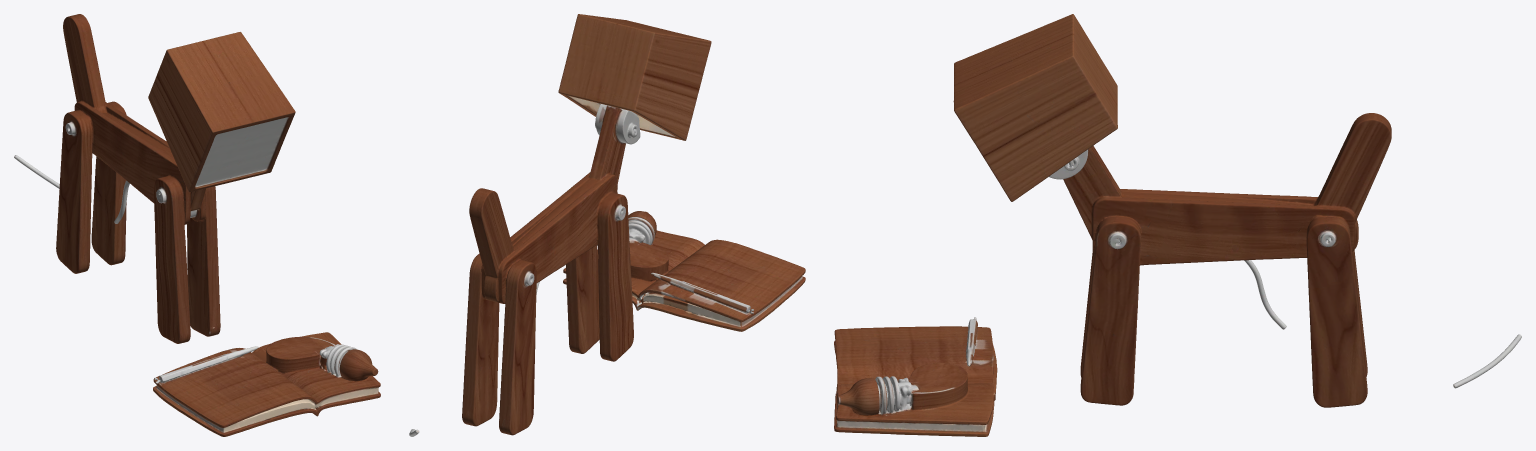
Rendered from Meshy_AI_Wooden_Companion_Lamp_0909143531_texture.glb.
3 views of the same model, side by side, from view 1: azimuth 30°, elevation 25°; view 2: azimuth 150°, elevation 25°; view 3: azimuth 270°, elevation 25° (orthographic). The views are drawn at different scales.
Size of the model in its own units: 0.6735 by 1.1 by 1.9.
Materials: 1 (1 with a texture image).
